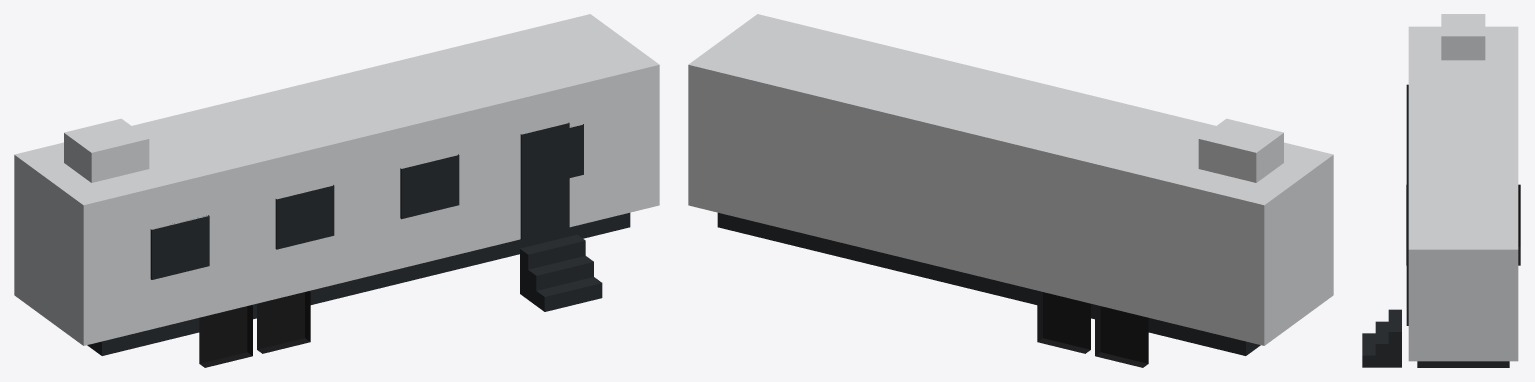
File: fest_trailer.glb
The picture shows the model from 3 angles, left to right: view 1: azimuth 30°, elevation 25°; view 2: azimuth 150°, elevation 25°; view 3: azimuth 270°, elevation 25°; orthographic projection. The views are drawn at different scales.
Visible parts, largest first — view 1: fest_trailer; view 2: fest_trailer; view 3: fest_trailer.
Part boxes in pixels (x1=…): fest_trailer: x1=14, y1=14, x2=659, y2=367; fest_trailer: x1=688, y1=14, x2=1333, y2=367; fest_trailer: x1=1362, y1=14, x2=1520, y2=367.
Bounding box in the file's own units: 12 × 4.4 × 3.6.
1 material, 1 textured.
